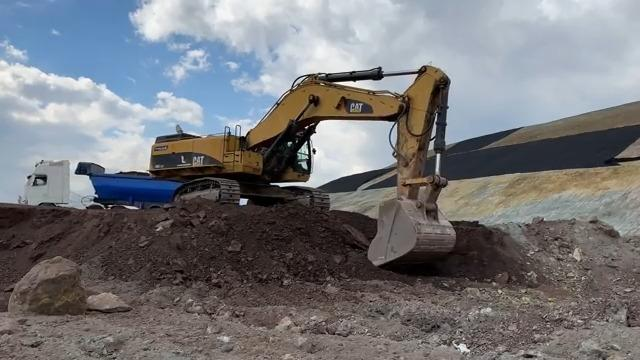excavator: (156, 70, 452, 218)
